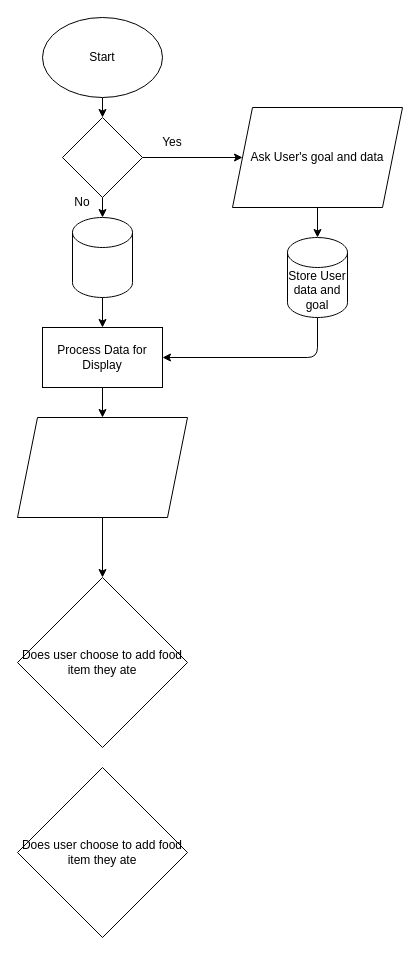
The diagram is 420 pixels wide and 955 high, and some of its shapes have lost their labels. The box of each missing label's shape, as (x1, y1, x2, y2) in pixels:
New User?: (62, 116, 142, 198)
Read User Data: (72, 216, 132, 298)
Show Graph of User's Calorie/Weight Tracker: (16, 416, 188, 518)
